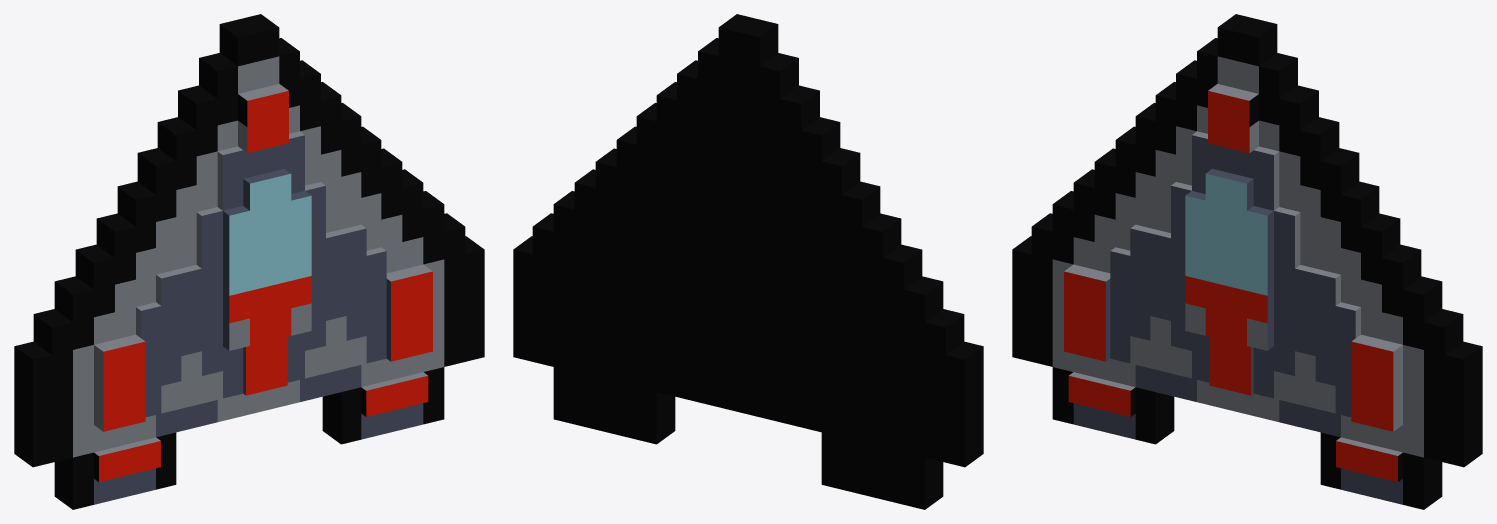
File: NavePlayer1Skin2.fbx
The picture shows the model from 3 angles, left to right: view 1: azimuth 30°, elevation 25°; view 2: azimuth 150°, elevation 25°; view 3: azimuth 330°, elevation 25°; orthographic projection.
Visible parts, largest first — view 1: Cube.001; view 2: Cube.001; view 3: Cube.001.
Boxes of the visible parts, x1=… form: Cube.001: x1=14, y1=14, x2=484, y2=509; Cube.001: x1=513, y1=14, x2=983, y2=509; Cube.001: x1=1012, y1=14, x2=1482, y2=509.
Bounding box in the file's own units: 144 × 132 × 16.81.
